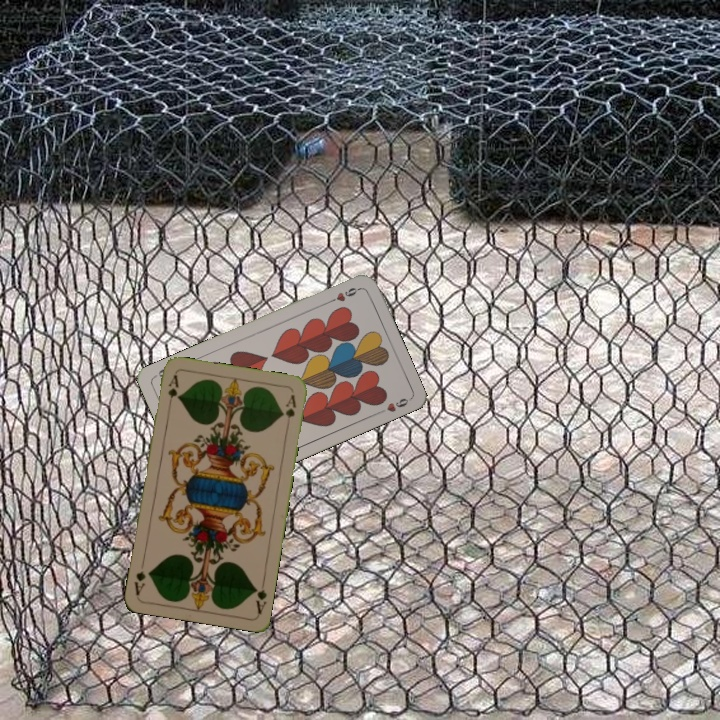GA: (250, 576, 269, 616), (164, 371, 181, 410)
H9: (324, 283, 363, 306)
